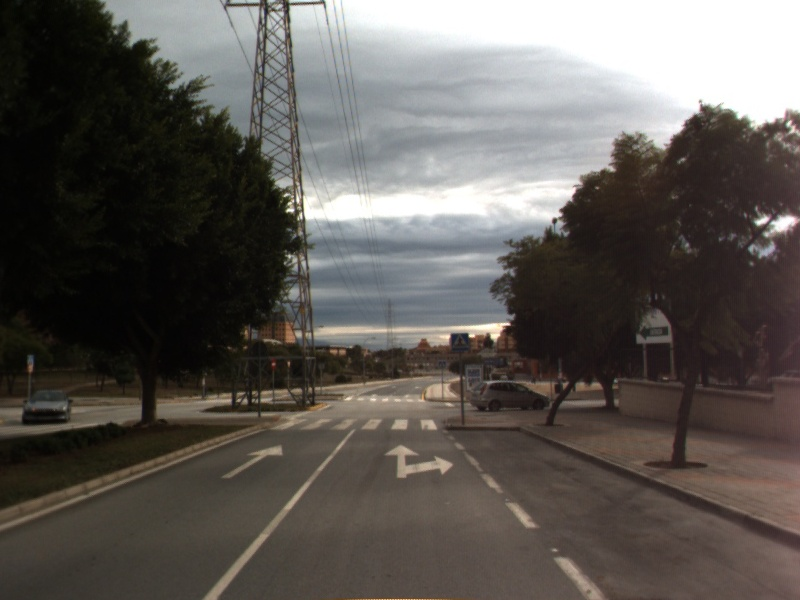STRAIGHT: (218, 442, 285, 480)
STRAIGHT_RIGHT: (382, 442, 455, 480)
